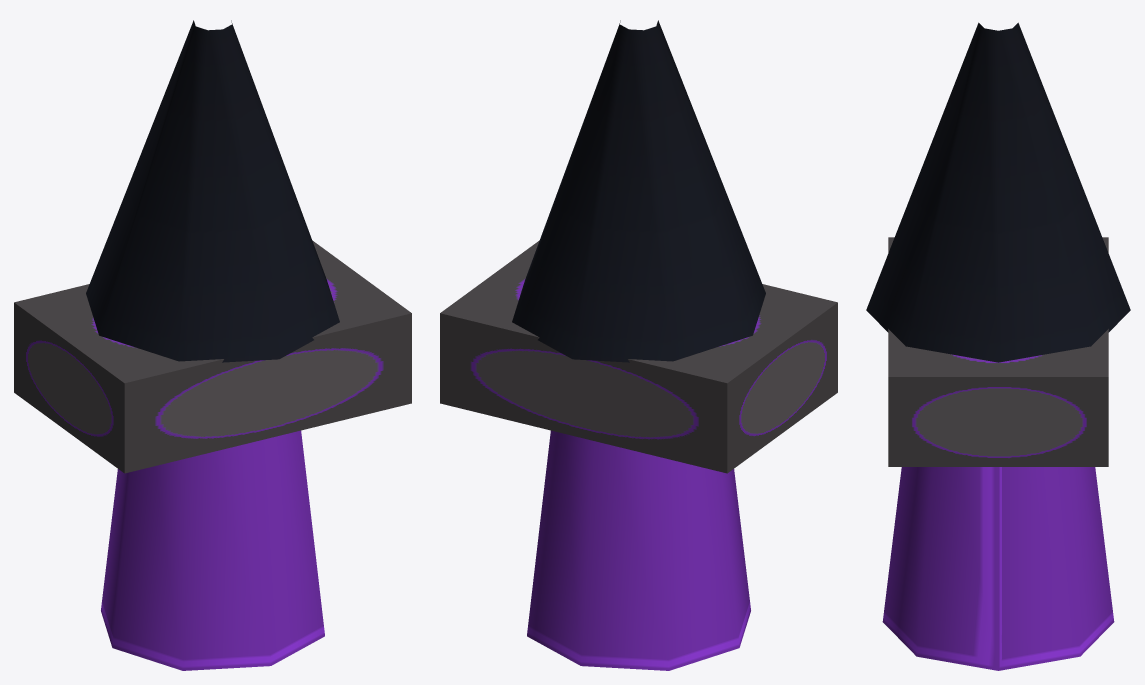
The model's file is weapon_shadow_claw.glb.
The picture shows the model from 3 angles, left to right: view 1: azimuth 30°, elevation 25°; view 2: azimuth 150°, elevation 25°; view 3: azimuth 270°, elevation 25°; orthographic projection.
Visible parts, largest first — view 1: weapon_shadow_claw; view 2: weapon_shadow_claw; view 3: weapon_shadow_claw.
Boxes of the visible parts, x1,y1,x2,y2 form: weapon_shadow_claw: (14,20,411,670); weapon_shadow_claw: (440,20,837,670); weapon_shadow_claw: (866,22,1130,670).
Size of the model in its own units: 0.24 by 0.48 by 0.192.
1 material, 1 textured.
